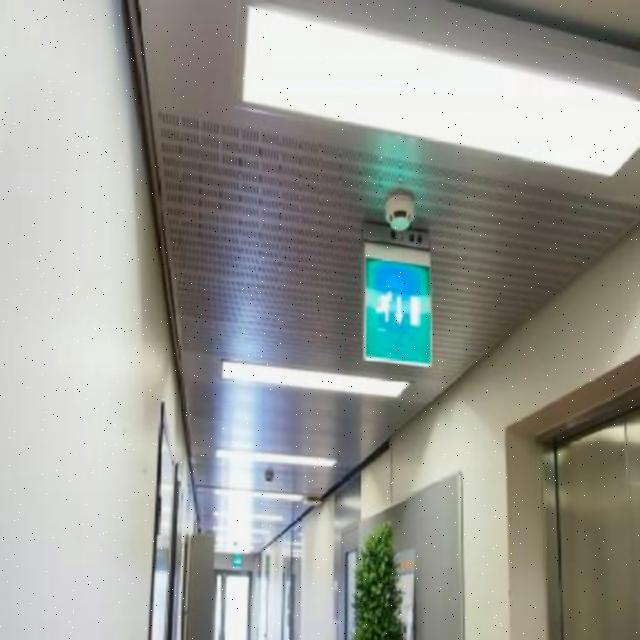emergency_exit: (360, 240, 434, 368)
